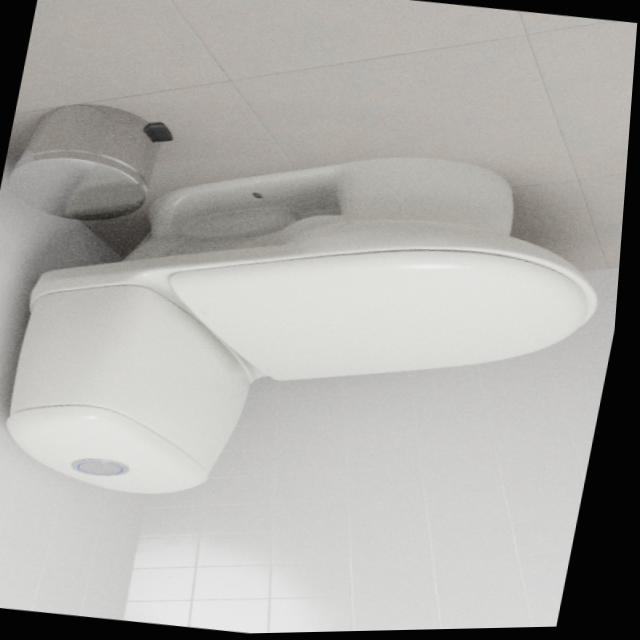toilet: (0, 110, 629, 550)
